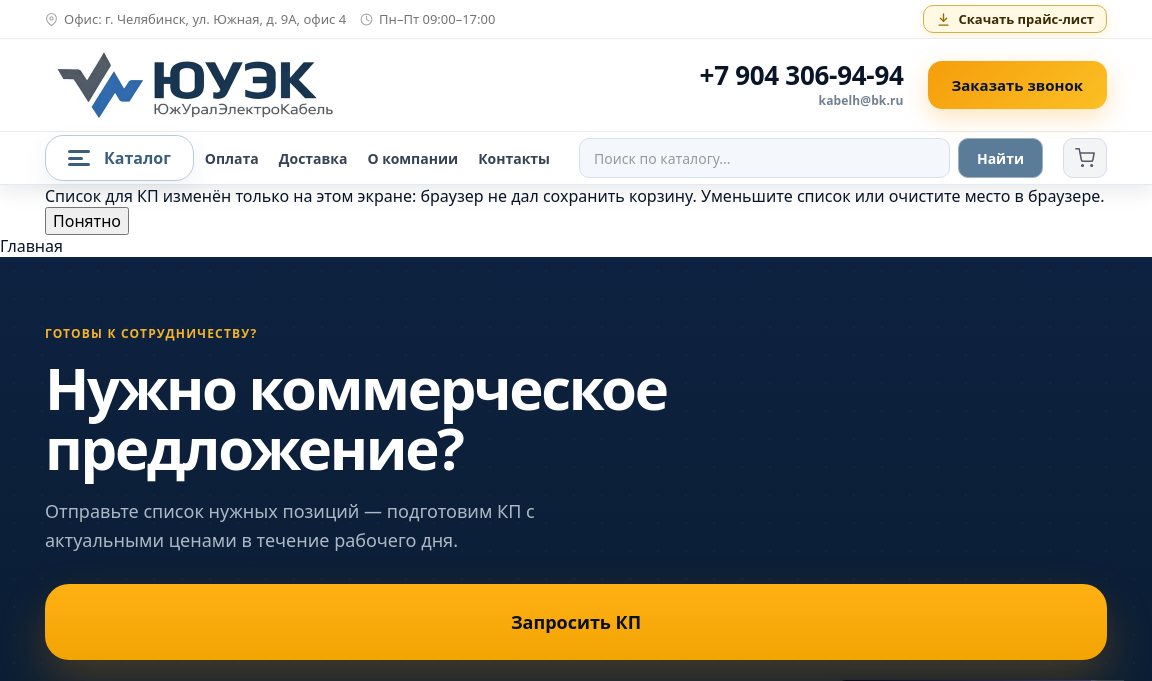
Test: MainLayout › показывает UX-фидбек при ошибке сохранения корзины и даёт закрыть предупреждение
Expected: the message shows "браузер не дал сохранить корзину", [45, 185, 1104, 207]
What coordinates should you click on to do the following:
click the button "Понятно"
I would click on:
 (87, 221)
Its box is [45, 207, 129, 235].
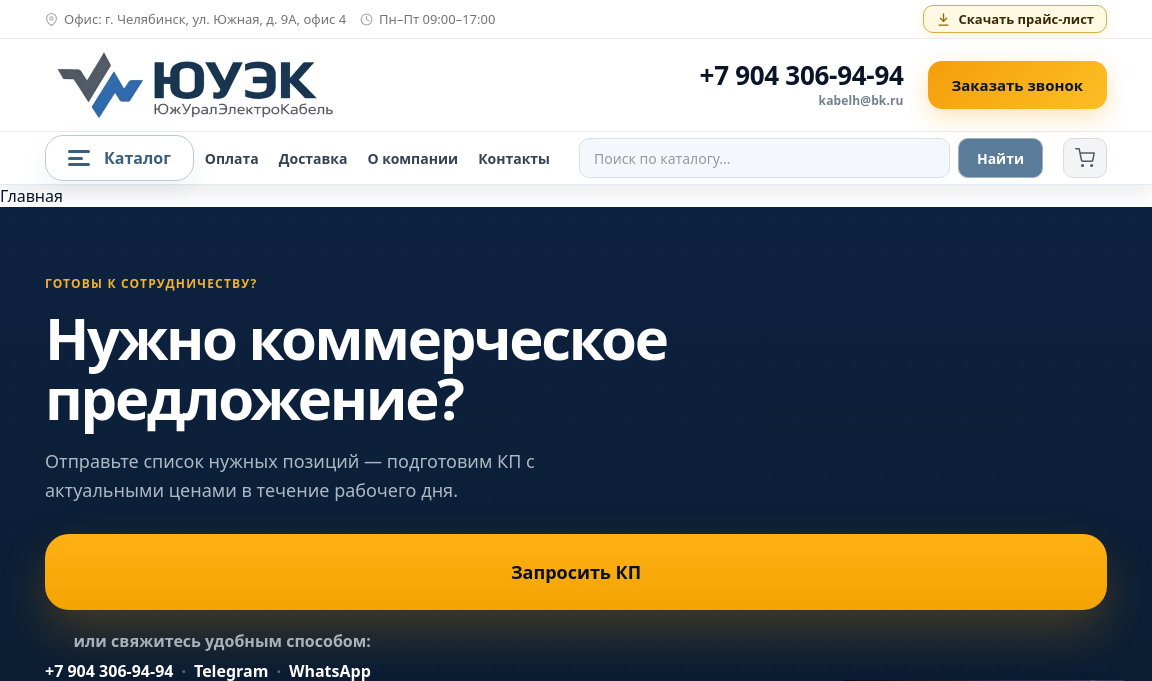
Now the message is gone
